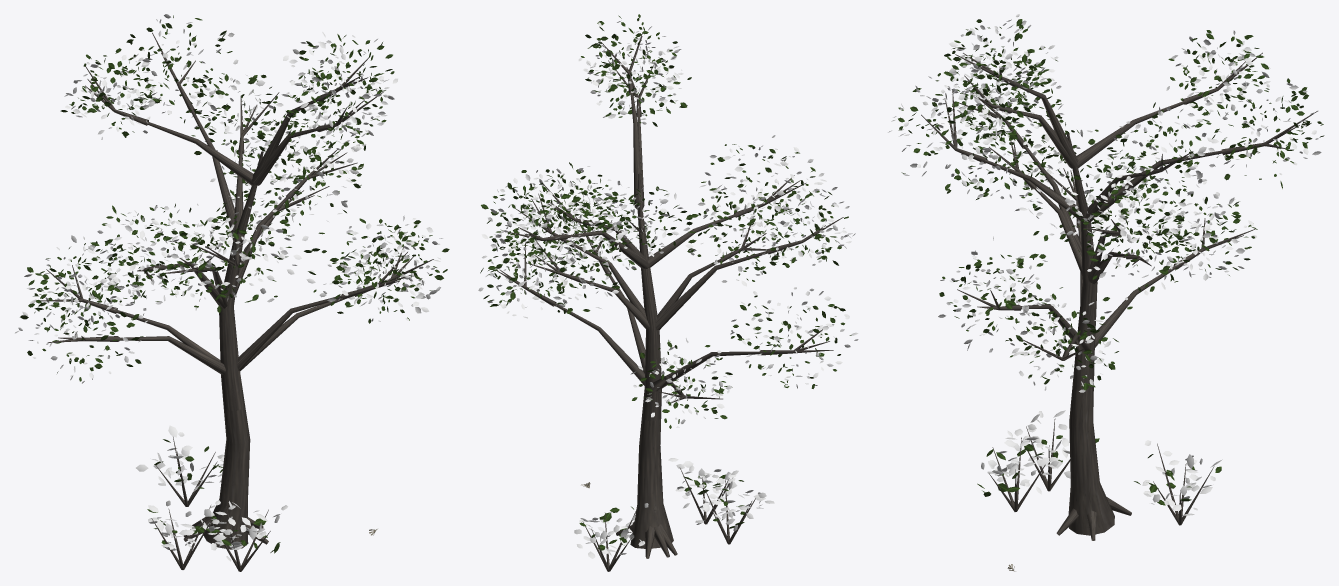
The model's file is SM_Env_Tile_p1_m4.fbx.
The picture shows the model from 3 angles, left to right: view 1: azimuth 30°, elevation 25°; view 2: azimuth 150°, elevation 25°; view 3: azimuth 270°, elevation 25°; orthographic projection. The views are drawn at different scales.
Visible parts, largest first — view 1: SM_Env_Tile_p1_m4; view 2: SM_Env_Tile_p1_m4; view 3: SM_Env_Tile_p1_m4.
Boxes of the visible parts, x1,y1,x2,y2 form: SM_Env_Tile_p1_m4: (15,14,449,571); SM_Env_Tile_p1_m4: (478,14,858,571); SM_Env_Tile_p1_m4: (888,14,1324,571).
Bounding box in the file's own units: 997 × 896 × 1216.
6 materials, 2 textured.
